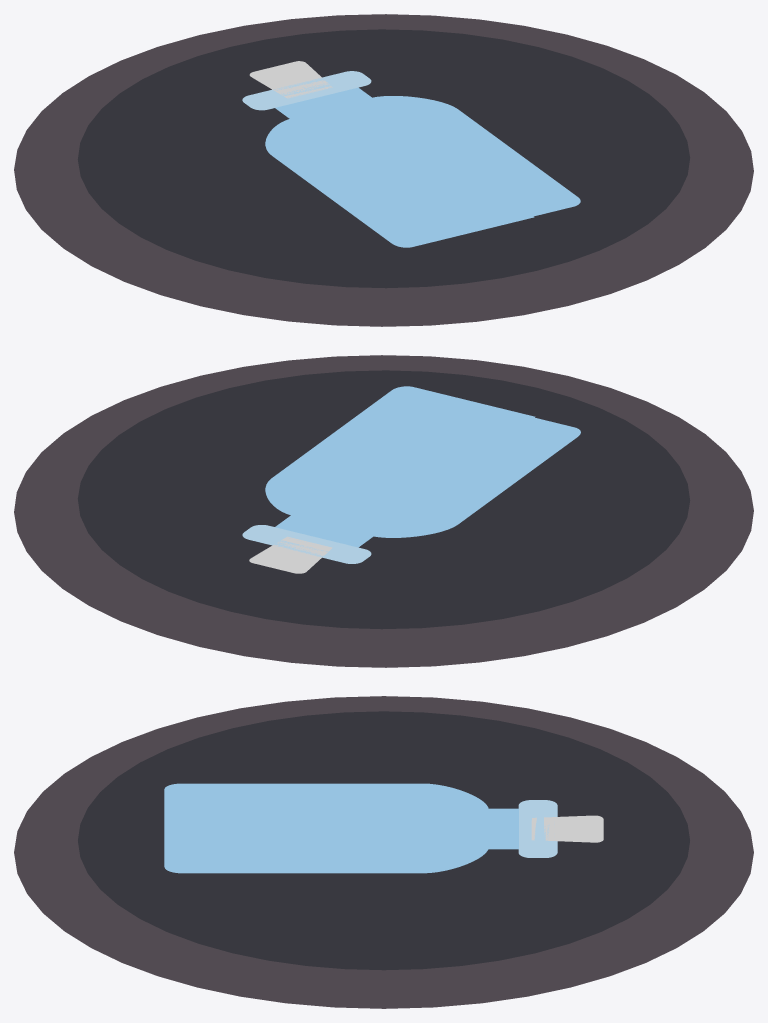
File: bottle button  1.fbx
3 renders of one model, top to bottom at view 1: azimuth 30°, elevation 25°; view 2: azimuth 150°, elevation 25°; view 3: azimuth 270°, elevation 25°, orthographic.
Visible parts, largest first — view 1: Curve.001, Curve, Curve.003, Curve.002, Curve.006, Curve.005, Curve.004; view 2: Curve.001, Curve, Curve.003, Curve.002, Curve.006, Curve.005, Curve.004; view 3: Curve.001, Curve, Curve.003, Curve.002, Curve.006, Curve.005, Curve.004.
Part boxes in pixels (x1,y1,x2,y2): Curve.001: (77,29,690,288); Curve: (14,14,753,326); Curve.003: (292,96,580,236); Curve.002: (265,118,534,247); Curve.006: (242,71,371,110); Curve.005: (249,61,332,98); Curve.004: (275,87,371,118); Curve.001: (77,370,690,629); Curve: (14,355,753,667); Curve.003: (265,386,535,534); Curve.002: (292,418,580,537); Curve.006: (242,525,371,563); Curve.005: (249,536,332,573); Curve.004: (275,515,373,547); Curve.001: (78,711,689,970); Curve: (14,696,753,1008); Curve.003: (164,807,488,873); Curve.002: (164,783,488,847); Curve.006: (518,800,557,857); Curve.005: (531,815,603,842); Curve.004: (488,808,518,849).
Bounding box in the file's own units: 5.73 × 0.21 × 5.73.
